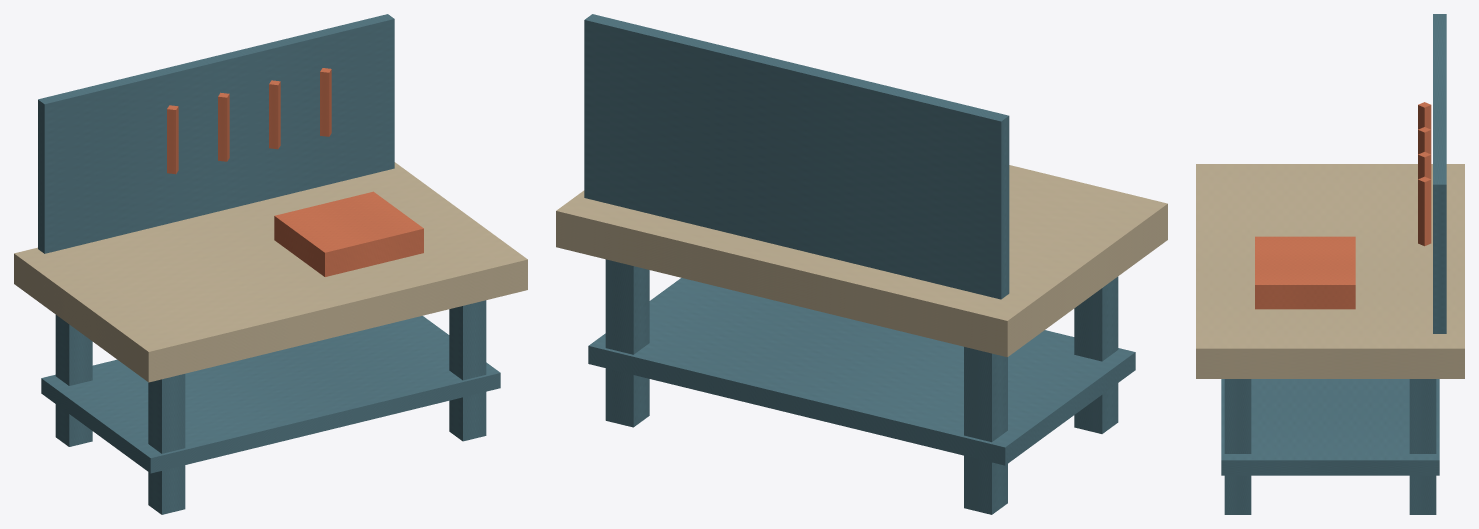
File: atlas100-s046-a06.lod2.glb
3 renders of one model, left to right at view 1: azimuth 30°, elevation 25°; view 2: azimuth 150°, elevation 25°; view 3: azimuth 270°, elevation 25°, orthographic. The views are drawn at different scales.
Visible parts, largest first — view 1: atlas100-s046-a06:part-004, atlas100-s046-a06:part-006, atlas100-s046-a06:part-005, atlas100-s046-a06:part-012, atlas100-s046-a06:part-001, atlas100-s046-a06:part-003, atlas100-s046-a06:part-000, atlas100-s046-a06:part-009, atlas100-s046-a06:part-008, atlas100-s046-a06:part-010, atlas100-s046-a06:part-011; view 2: atlas100-s046-a06:part-006, atlas100-s046-a06:part-005, atlas100-s046-a06:part-004, atlas100-s046-a06:part-002, atlas100-s046-a06:part-000, atlas100-s046-a06:part-001; view 3: atlas100-s046-a06:part-004, atlas100-s046-a06:part-005, atlas100-s046-a06:part-012, atlas100-s046-a06:part-006, atlas100-s046-a06:part-002, atlas100-s046-a06:part-003, atlas100-s046-a06:part-011, atlas100-s046-a06:part-008, atlas100-s046-a06:part-009, atlas100-s046-a06:part-010.
Part boxes in pixels (bbox=[...]): atlas100-s046-a06:part-004: bbox=[14, 162, 527, 382]; atlas100-s046-a06:part-006: bbox=[38, 14, 394, 253]; atlas100-s046-a06:part-005: bbox=[41, 316, 500, 473]; atlas100-s046-a06:part-012: bbox=[274, 191, 423, 276]; atlas100-s046-a06:part-001: bbox=[148, 374, 185, 514]; atlas100-s046-a06:part-003: bbox=[449, 300, 486, 441]; atlas100-s046-a06:part-000: bbox=[55, 315, 92, 446]; atlas100-s046-a06:part-009: bbox=[218, 92, 229, 161]; atlas100-s046-a06:part-008: bbox=[167, 105, 178, 174]; atlas100-s046-a06:part-010: bbox=[269, 80, 280, 149]; atlas100-s046-a06:part-011: bbox=[320, 68, 331, 136]; atlas100-s046-a06:part-006: bbox=[584, 14, 1009, 299]; atlas100-s046-a06:part-005: bbox=[588, 278, 1135, 465]; atlas100-s046-a06:part-004: bbox=[556, 165, 1167, 357]; atlas100-s046-a06:part-002: bbox=[605, 259, 649, 427]; atlas100-s046-a06:part-000: bbox=[964, 347, 1007, 514]; atlas100-s046-a06:part-001: bbox=[1074, 276, 1118, 433]; atlas100-s046-a06:part-004: bbox=[1196, 164, 1464, 378]; atlas100-s046-a06:part-005: bbox=[1221, 379, 1439, 475]; atlas100-s046-a06:part-012: bbox=[1255, 236, 1355, 309]; atlas100-s046-a06:part-006: bbox=[1433, 14, 1446, 333]; atlas100-s046-a06:part-002: bbox=[1409, 379, 1436, 514]; atlas100-s046-a06:part-003: bbox=[1224, 379, 1251, 514]; atlas100-s046-a06:part-011: bbox=[1418, 176, 1431, 246]; atlas100-s046-a06:part-008: bbox=[1418, 102, 1431, 129]; atlas100-s046-a06:part-009: bbox=[1418, 127, 1431, 154]; atlas100-s046-a06:part-010: bbox=[1418, 152, 1431, 179].
Bounding box in the file's own units: 2.6 × 2.21 × 1.6.
Materials: 3 (3 with a texture image).
